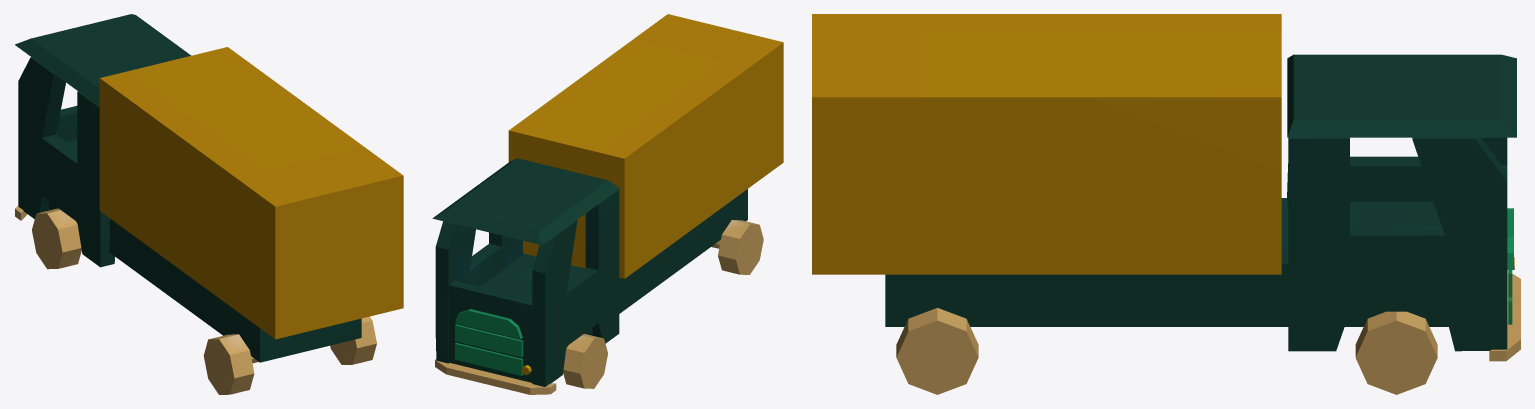
Rendered from Caminhaozinho.fbx.
3 views of the same model, side by side, from view 1: azimuth 30°, elevation 25°; view 2: azimuth 150°, elevation 25°; view 3: azimuth 270°, elevation 25° (orthographic). The views are drawn at different scales.
Parts seen in each view (by area): view 1: Caminhaozinho; view 2: Caminhaozinho; view 3: Caminhaozinho.
Part boxes in pixels (x1,y1,x2,y2): Caminhaozinho: (15, 14, 403, 394); Caminhaozinho: (432, 14, 783, 394); Caminhaozinho: (812, 14, 1520, 394).
Size of the model in its own units: 11.64 by 17.18 by 37.51.
